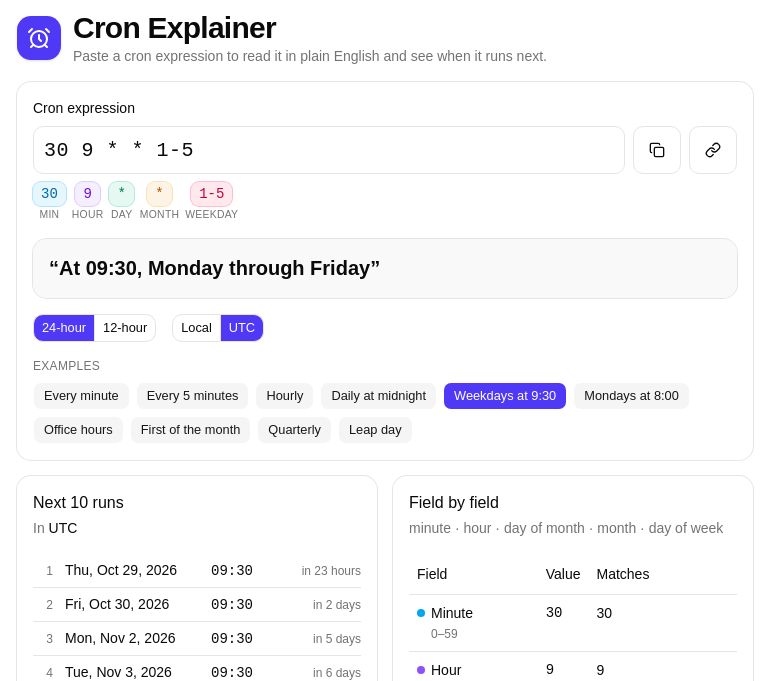
Test: explaining › points at the broken field
Type "0 25 * * *" into the field labelled "Cron expression". click: [329, 150]
box: [33,126,625,174]
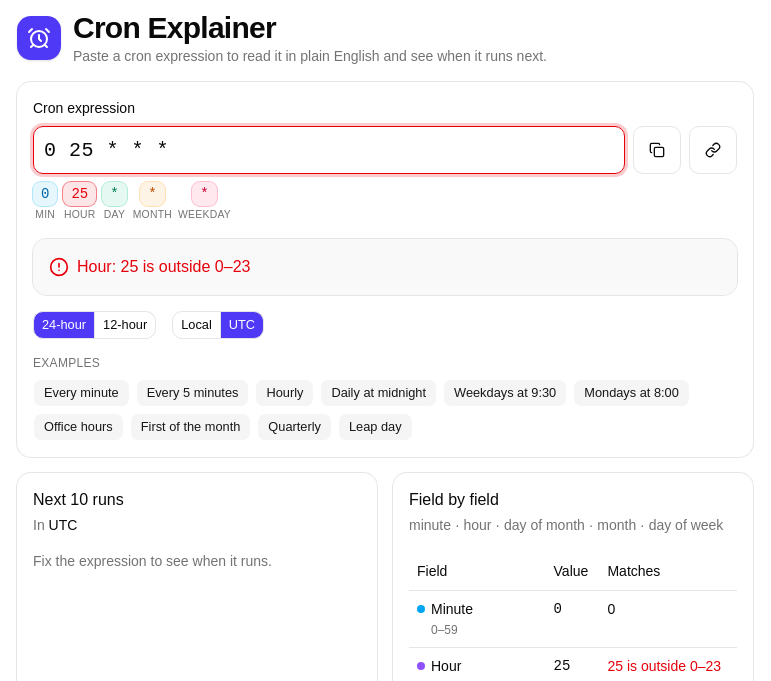
Expected: the element with test id "explanation" reads "Hour: 25 is outside 0–23", [77,258,250,275]
Expected: the text "Fix the expression to see when it runs." is shown, [33,553,272,569]
Replace the text in the field labelled "Cron expression" with "0 0 * *". click: [329, 150]
box: [33,126,625,174]
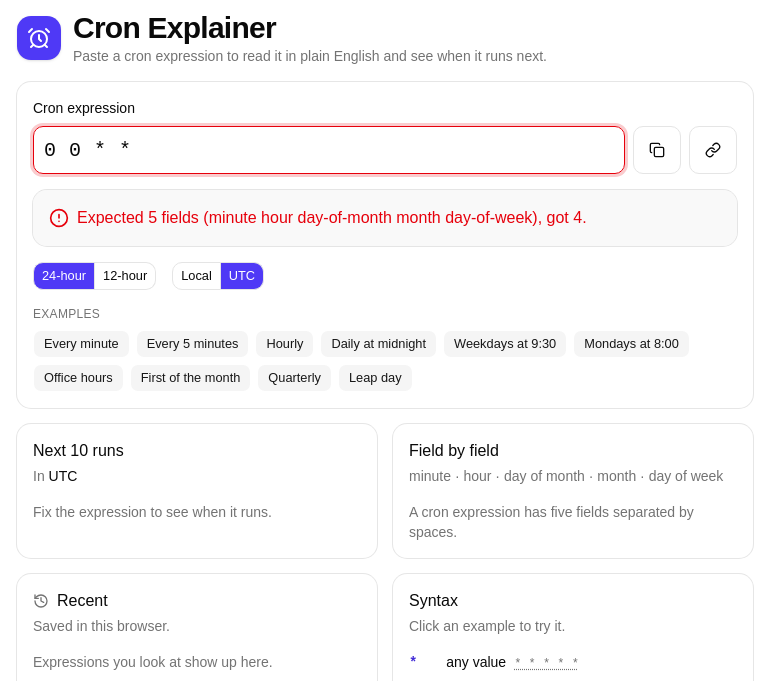
Expected: the element with test id "explanation" shows "Expected 5 fields", [77,209,587,226]
